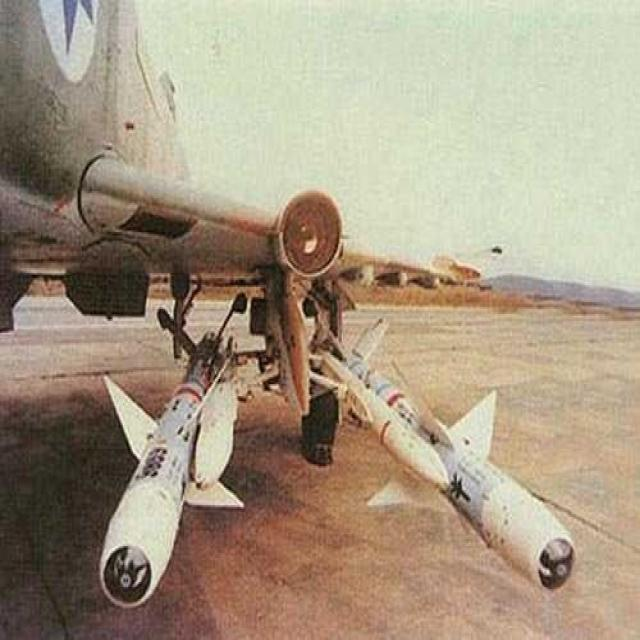missile: (307, 334, 575, 594), (100, 328, 247, 608)
